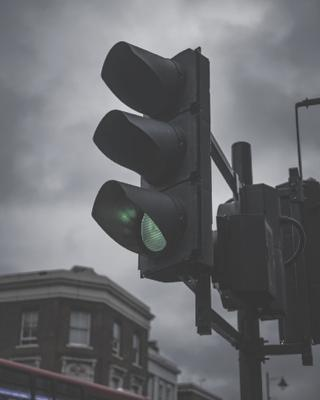International Road Signal Light: (91, 45, 206, 276)
